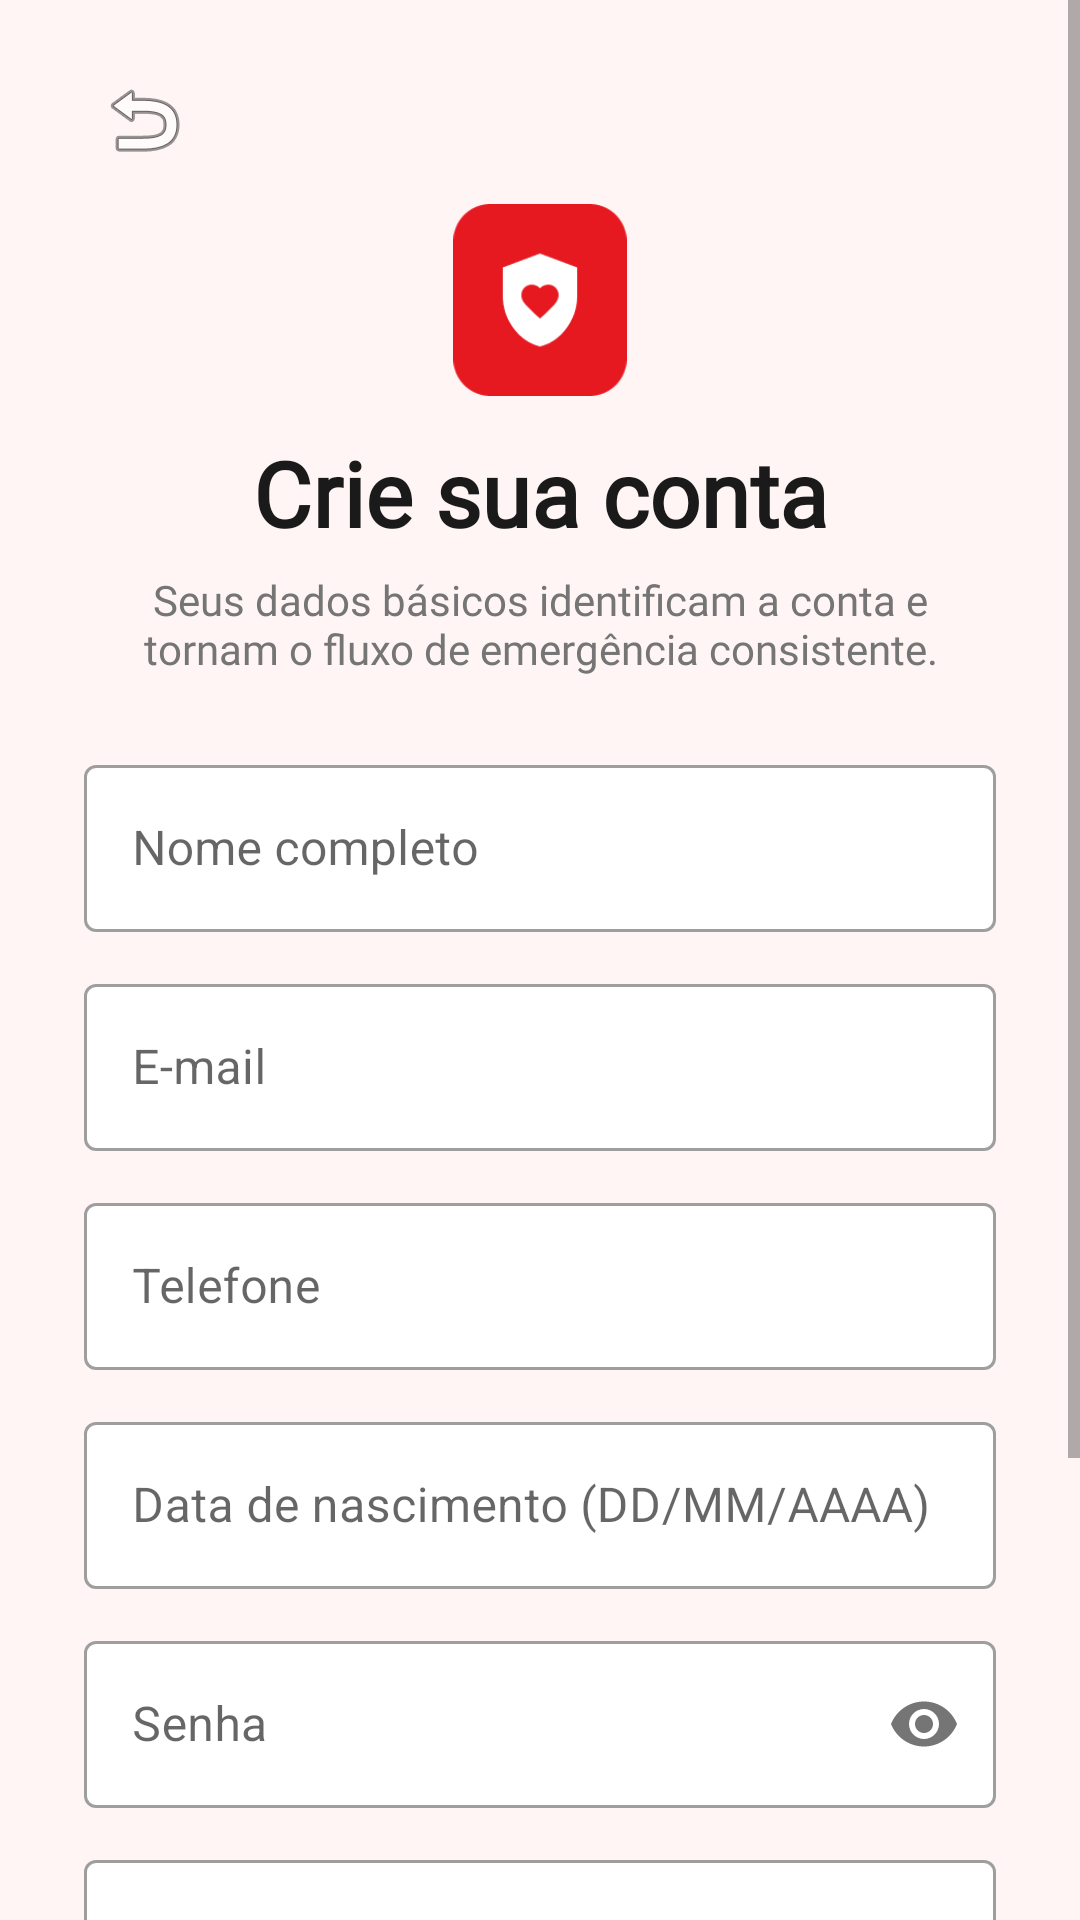

Screen size 1080 x 1920. Icon name, then its box in pixels as (x1, y1, x2, y2):
Voltar: (111, 89, 180, 152)
